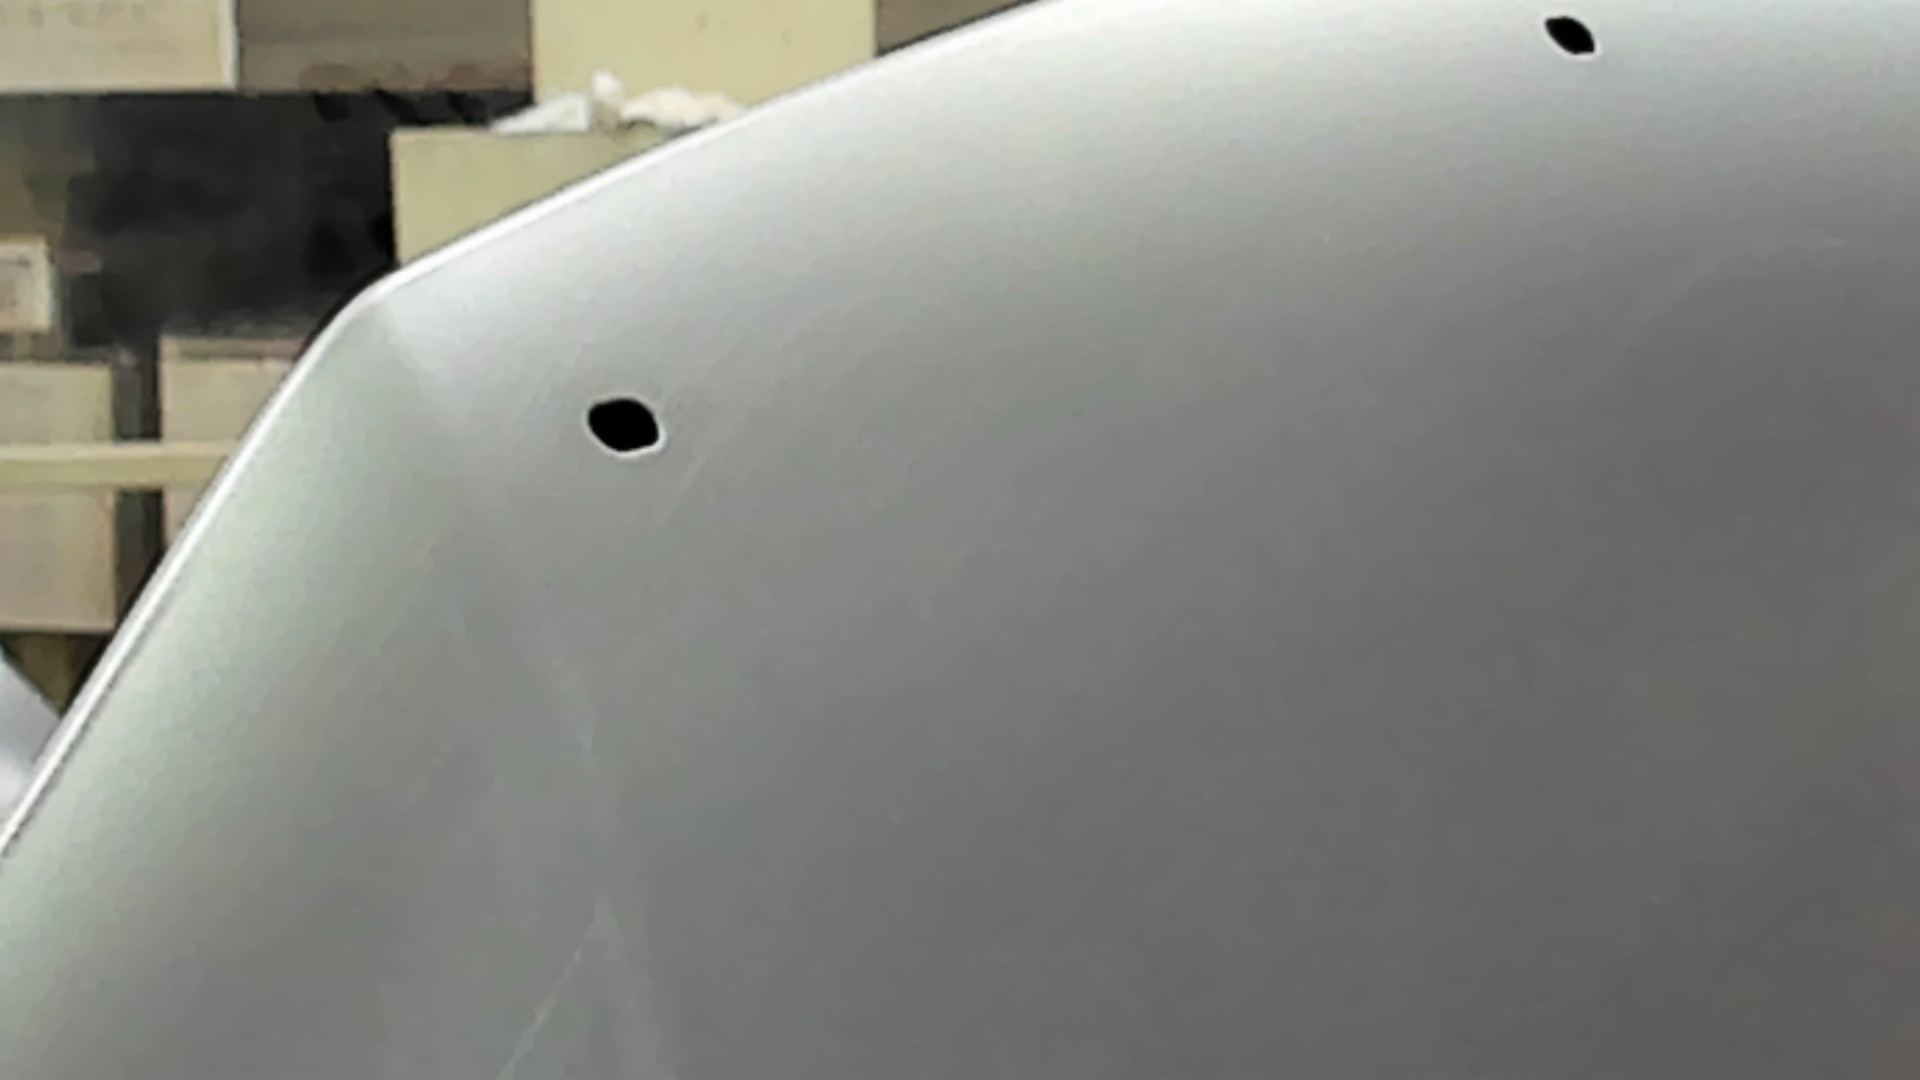amorfo: (582, 390, 670, 459), (1538, 8, 1604, 65)
